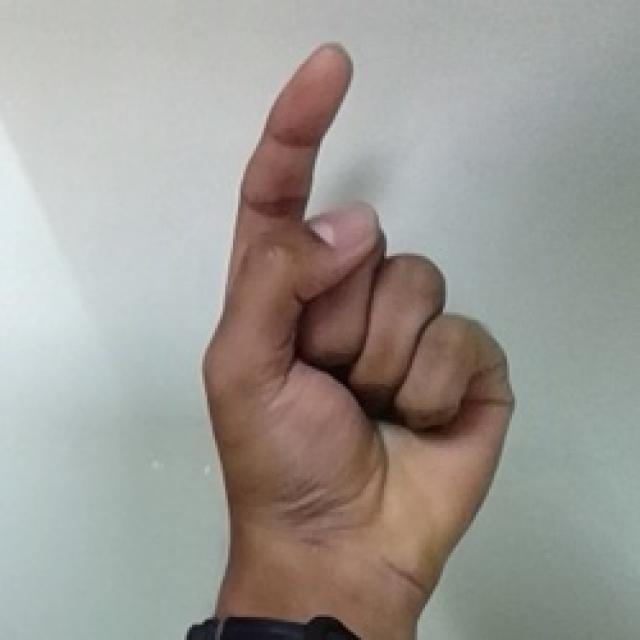Numeric-1: (206, 41, 517, 604)
